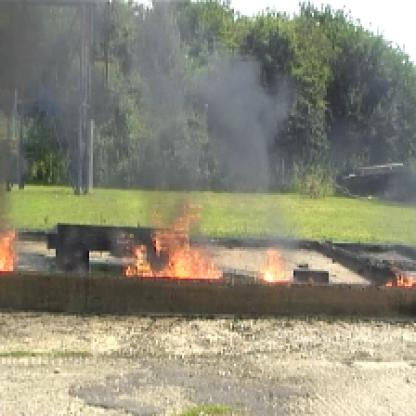Fire: (122, 199, 236, 284), (256, 245, 292, 286), (373, 264, 414, 290), (2, 227, 20, 269)
Smoke: (2, 4, 273, 202)
